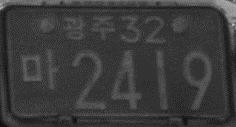1: (154, 47, 171, 114)
2: (72, 47, 107, 113), (143, 15, 166, 45)
3: (118, 15, 140, 44)
4: (110, 47, 143, 113)
9: (181, 50, 213, 113)
광주_O: (62, 11, 115, 43)
마: (21, 47, 59, 91)
